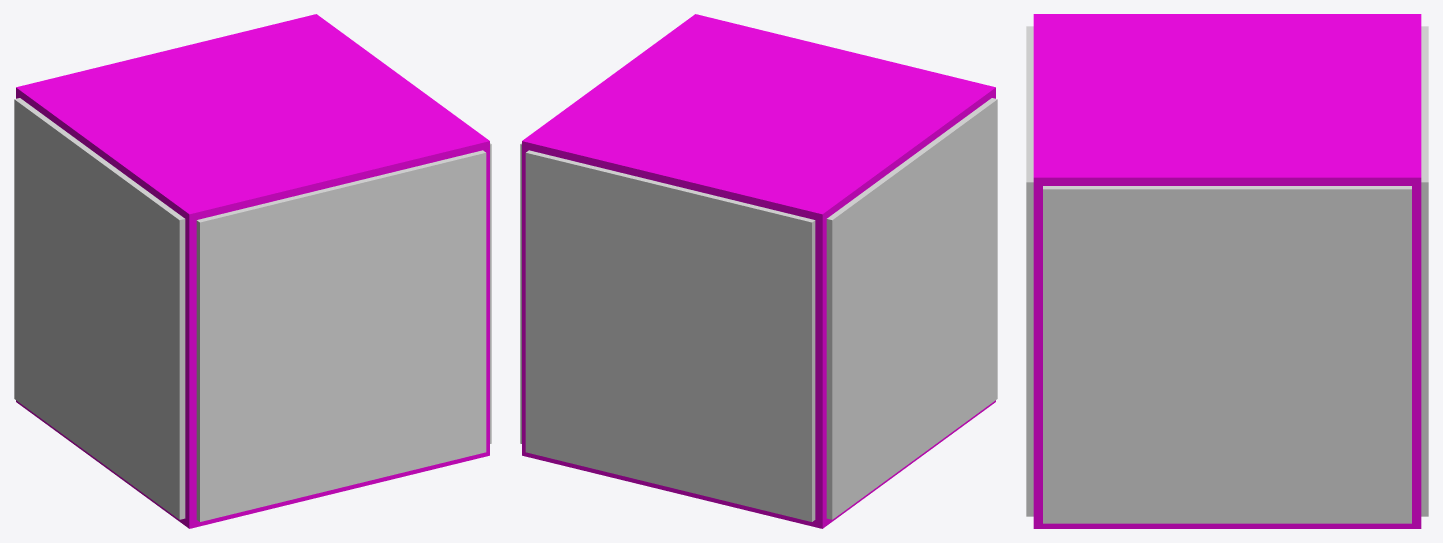
The picture shows the model from 3 angles, left to right: view 1: azimuth 30°, elevation 25°; view 2: azimuth 150°, elevation 25°; view 3: azimuth 270°, elevation 25°; orthographic projection. The views are drawn at different scales.
Visible parts, largest first — view 1: sideD, centralCube, sideC, sideA; view 2: sideB, centralCube, sideC, sideA; view 3: sideA, centralCube, sideB, sideD.
Boxes of the visible parts, x1,y1,x2,y2 form: sideD: (196,150,486,521); centralCube: (16,14,489,528); sideC: (14,98,185,519); sideA: (490,143,491,443); sideB: (525,150,815,521); centralCube: (522,14,995,528); sideC: (826,98,997,519); sideA: (520,143,521,443); sideA: (1043,186,1411,523); centralCube: (1033,14,1421,528); sideB: (1421,26,1428,516); sideD: (1026,26,1033,516).
Bounding box in the file's own units: 2.18 × 2.1 × 2.18.
